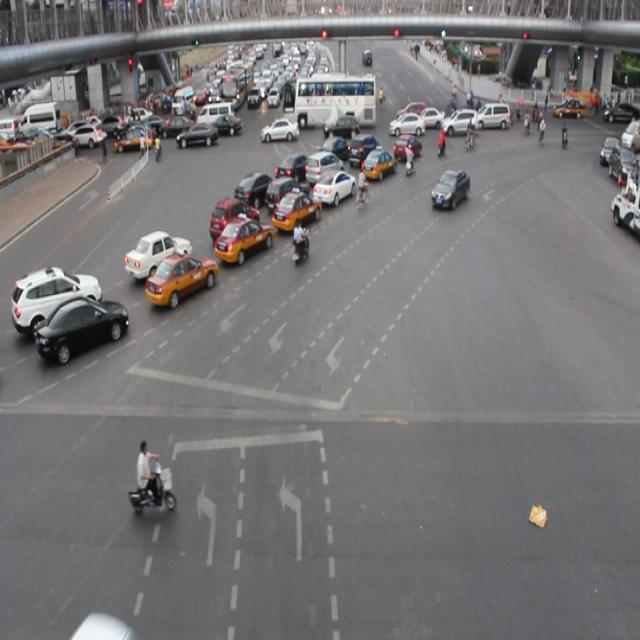car: (12, 269, 102, 327), (34, 293, 126, 347), (145, 256, 218, 300), (125, 229, 191, 274), (214, 216, 272, 259), (209, 196, 258, 238), (428, 167, 470, 210), (272, 193, 318, 230), (266, 173, 309, 211), (311, 171, 354, 204), (234, 172, 275, 205), (307, 149, 343, 185), (274, 153, 313, 184), (362, 145, 396, 180), (347, 134, 380, 166), (319, 136, 353, 164), (392, 134, 422, 165)
